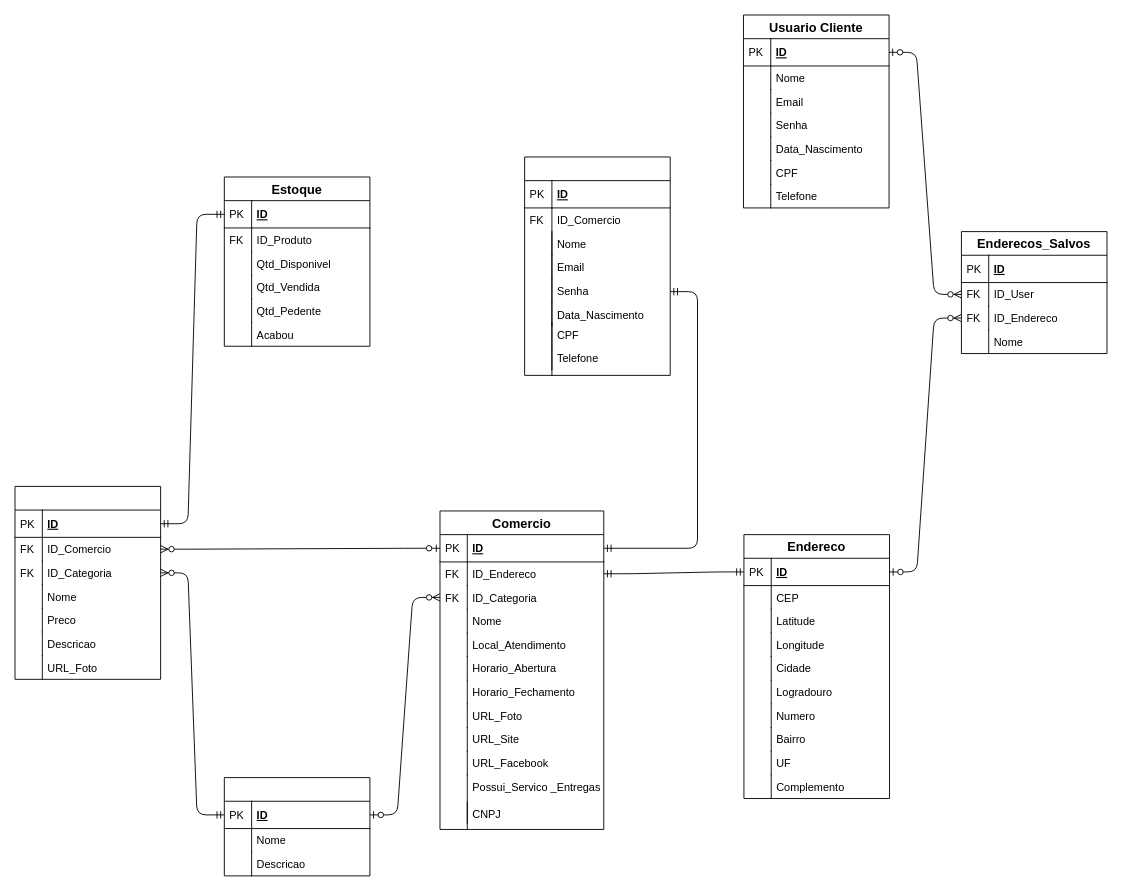
Image size: 1122x891. Some labels were removed from this diagram. Here are the shapes that lost their labels. From the top down, the box of each, then its label:
(524, 156, 670, 375): Vendedor
(14, 485, 161, 679): Produto
(223, 777, 370, 876): Categoria
